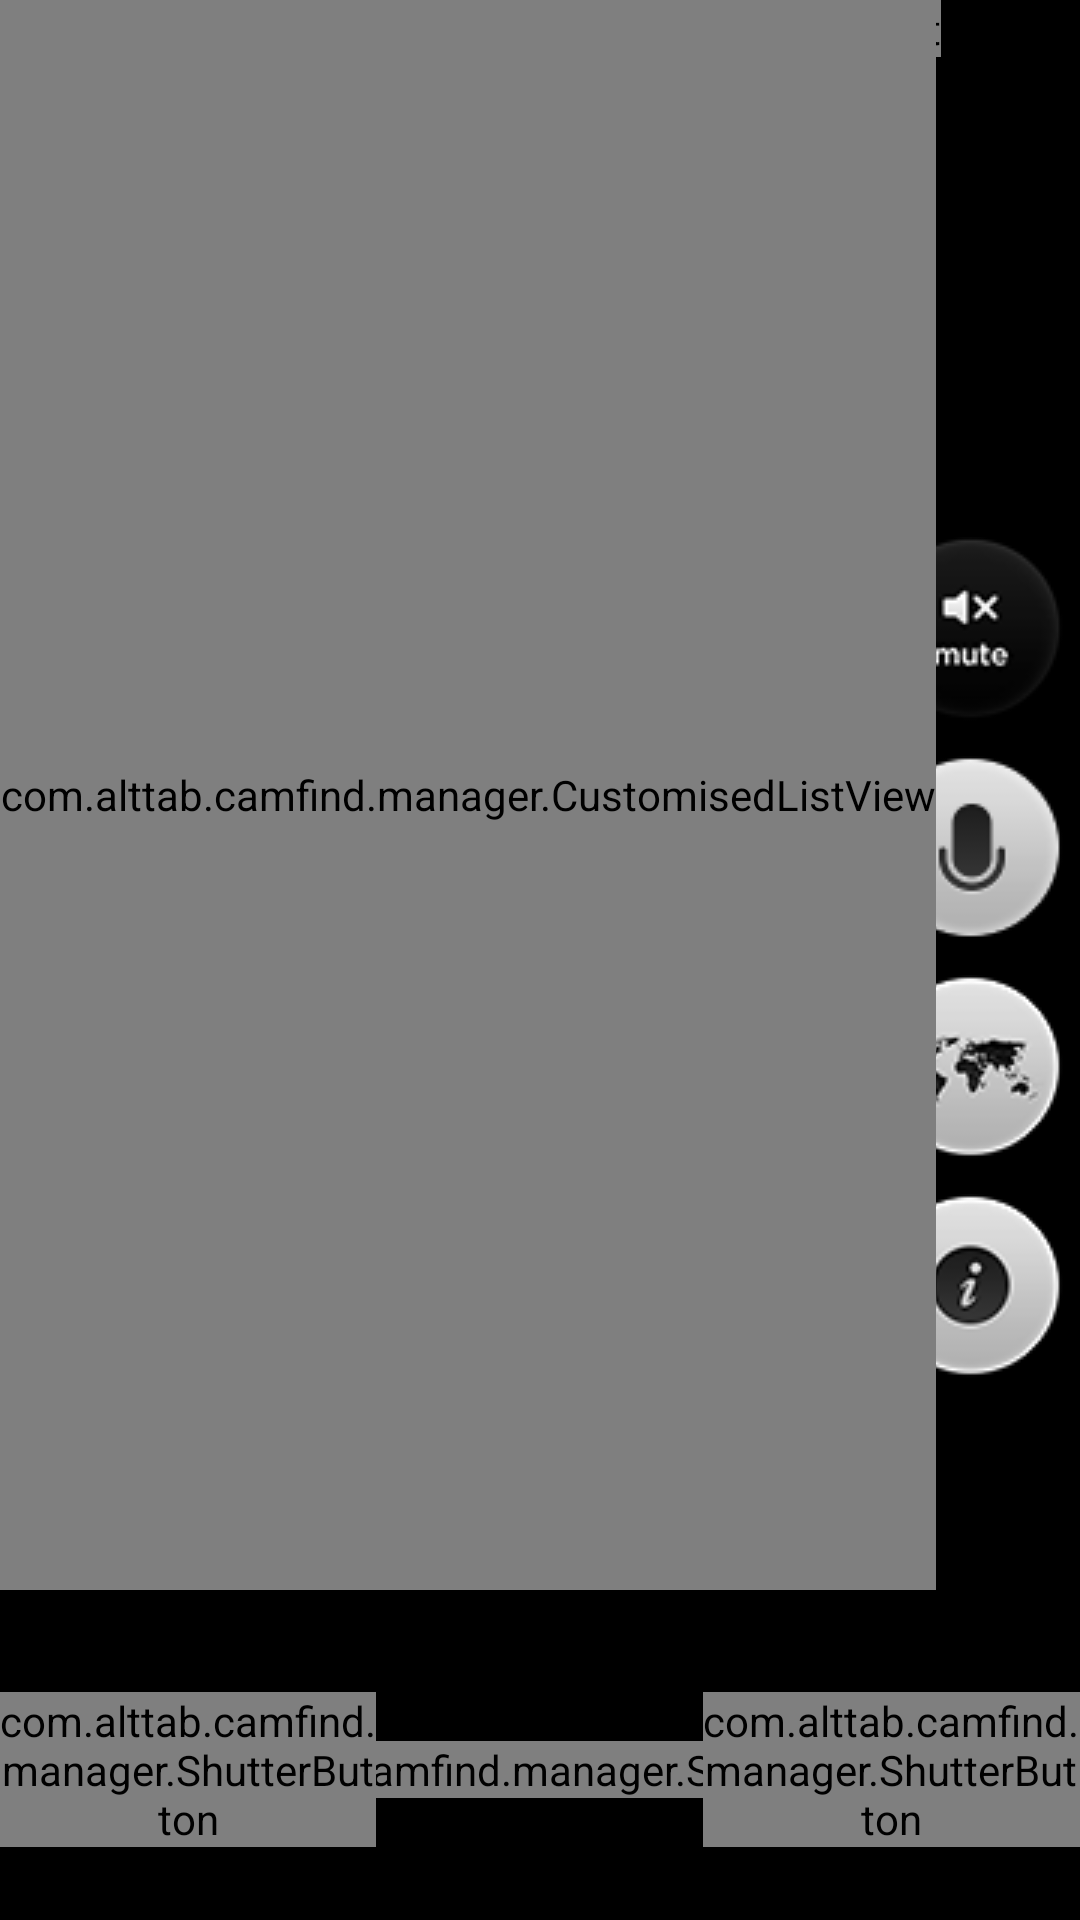

Named icons in this screenshot (1080×1920) and their centers, point (x, y):
camera menuitem about: point (970, 1288)
camera menuitem speech: point (970, 850)
